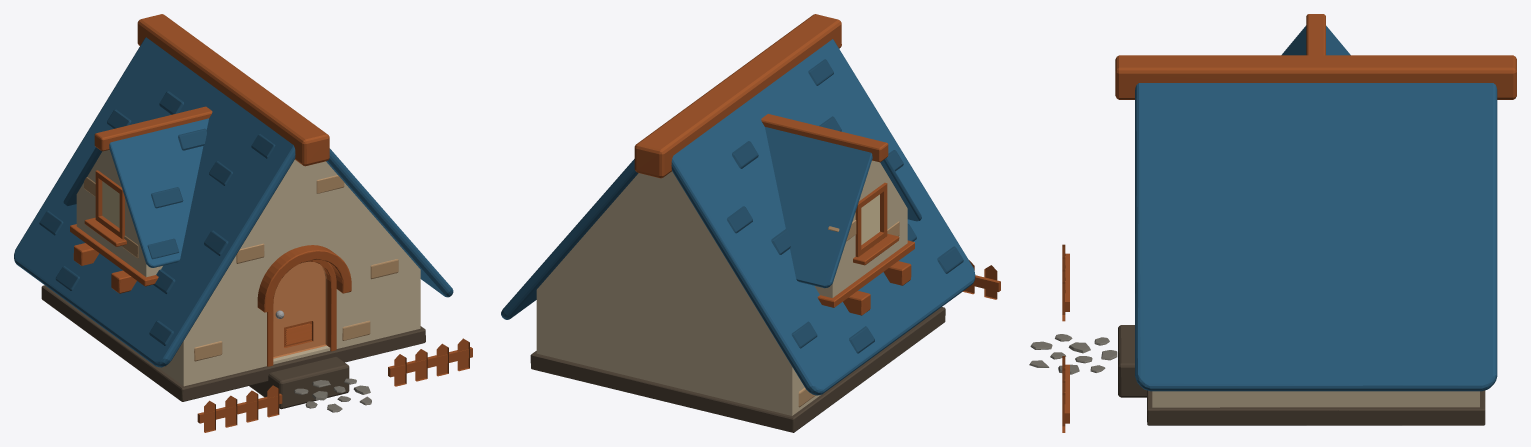
File: casa-bosque.glb
The picture shows the model from 3 angles, left to right: view 1: azimuth 30°, elevation 25°; view 2: azimuth 150°, elevation 25°; view 3: azimuth 270°, elevation 25°; orthographic projection. The views are drawn at different scales.
Parts seen in each view (by area): view 1: casa-bosque; view 2: casa-bosque; view 3: casa-bosque.
Part boxes in pixels (x1,y1,x2,y2): casa-bosque: [14, 14, 472, 432]; casa-bosque: [501, 14, 1000, 432]; casa-bosque: [1029, 14, 1516, 432].
Size of the model in its own units: 0.8454 by 0.7178 by 1.
